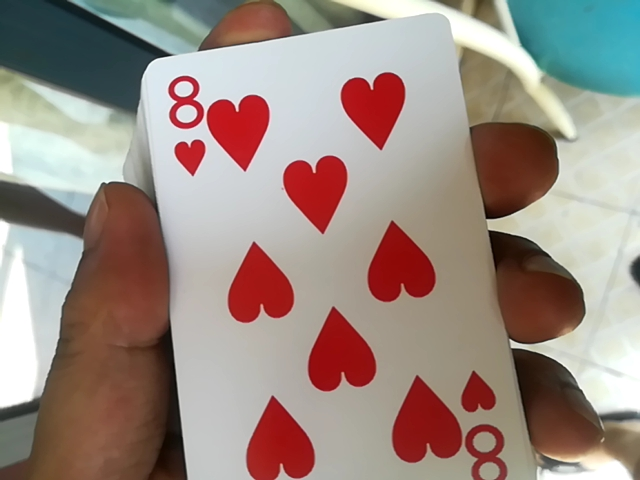hx 8: (148, 18, 563, 479)
